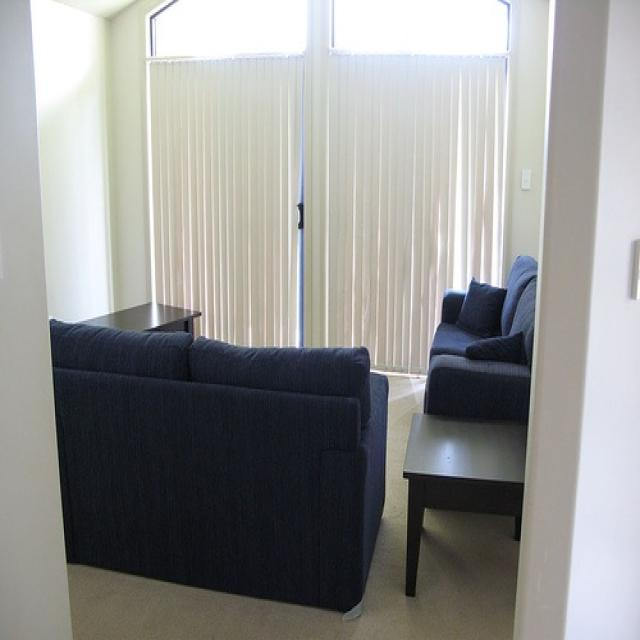sofa: (48, 320, 389, 614), (423, 252, 545, 421)
